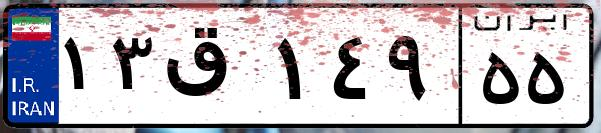1: (270, 28, 330, 110), (57, 26, 110, 100)
3: (110, 28, 158, 98)
4: (330, 28, 385, 110)
5: (475, 38, 525, 113), (525, 38, 570, 115)
9: (385, 28, 445, 110)
ق: (158, 20, 270, 120)
